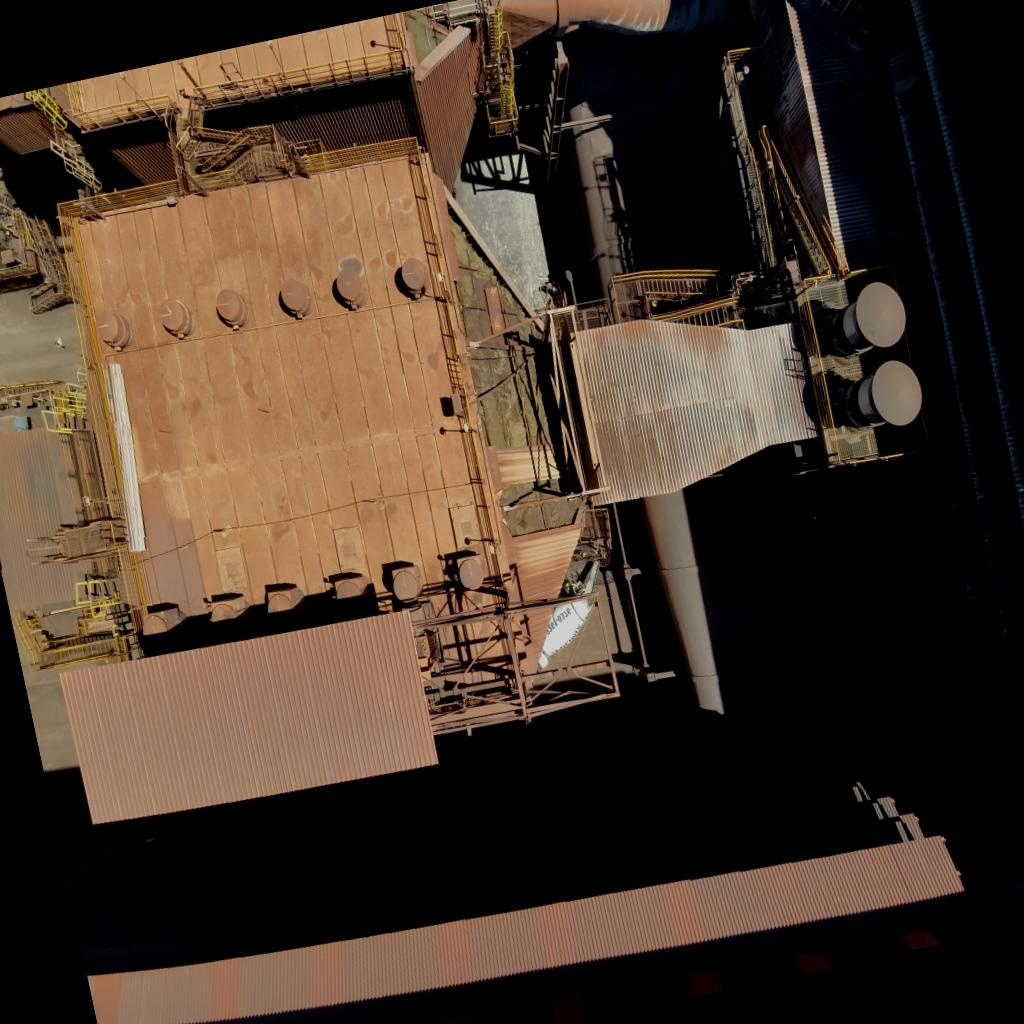Failures: (434, 180, 588, 546), (405, 1, 467, 72)
